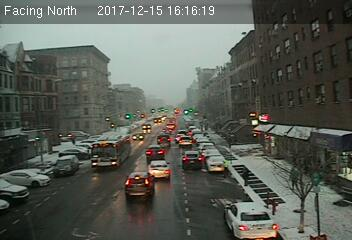bus: (89, 134, 132, 167)
car: (224, 199, 276, 240), (123, 172, 155, 198), (53, 155, 78, 176), (181, 151, 203, 171), (147, 161, 171, 179), (144, 146, 166, 161), (207, 156, 228, 171), (156, 134, 170, 147), (178, 135, 193, 146), (131, 132, 144, 140)
